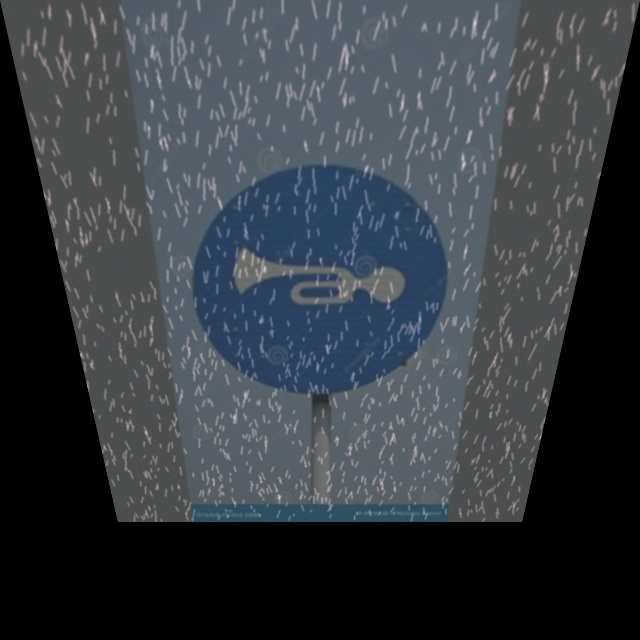Compulsory_Sound_Horn: (179, 161, 460, 389)
